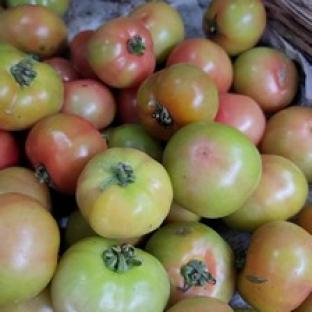Tomato: (162, 122, 261, 218), (76, 148, 172, 239), (52, 237, 169, 311), (145, 222, 235, 307), (0, 193, 59, 306), (237, 221, 311, 311), (223, 154, 309, 231), (26, 113, 107, 194), (137, 63, 218, 140), (0, 44, 64, 130), (87, 17, 155, 87), (233, 46, 299, 112), (260, 106, 311, 182), (166, 38, 233, 93), (0, 5, 68, 58), (129, 2, 185, 65), (62, 78, 116, 129), (215, 92, 266, 144), (0, 166, 52, 211), (105, 123, 162, 161), (0, 285, 55, 311), (69, 30, 97, 79), (65, 209, 97, 249), (166, 296, 233, 311), (44, 56, 80, 82), (116, 88, 139, 123), (0, 130, 20, 169), (165, 201, 200, 222), (296, 202, 311, 233), (293, 293, 311, 311)
